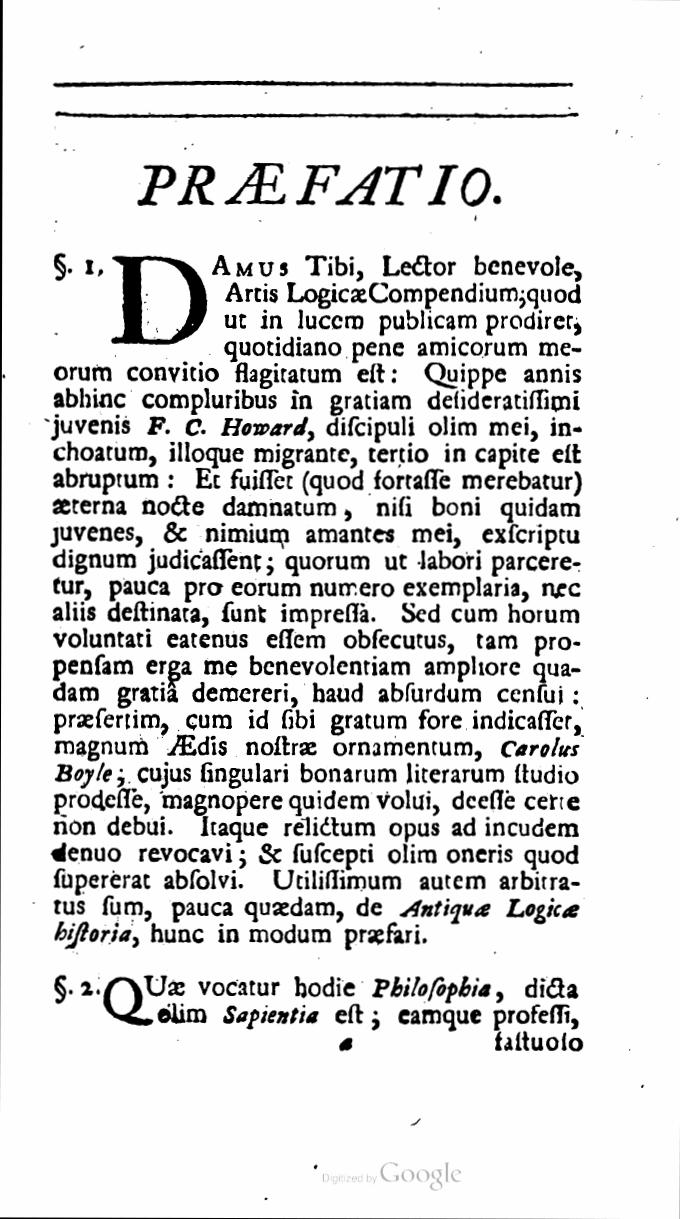catchword: (485, 1028, 587, 1060)
full_p: (50, 252, 587, 952), (132, 152, 507, 217)
initial_l: (107, 255, 208, 352), (98, 972, 155, 1032)
top_p: (52, 968, 587, 1032)
